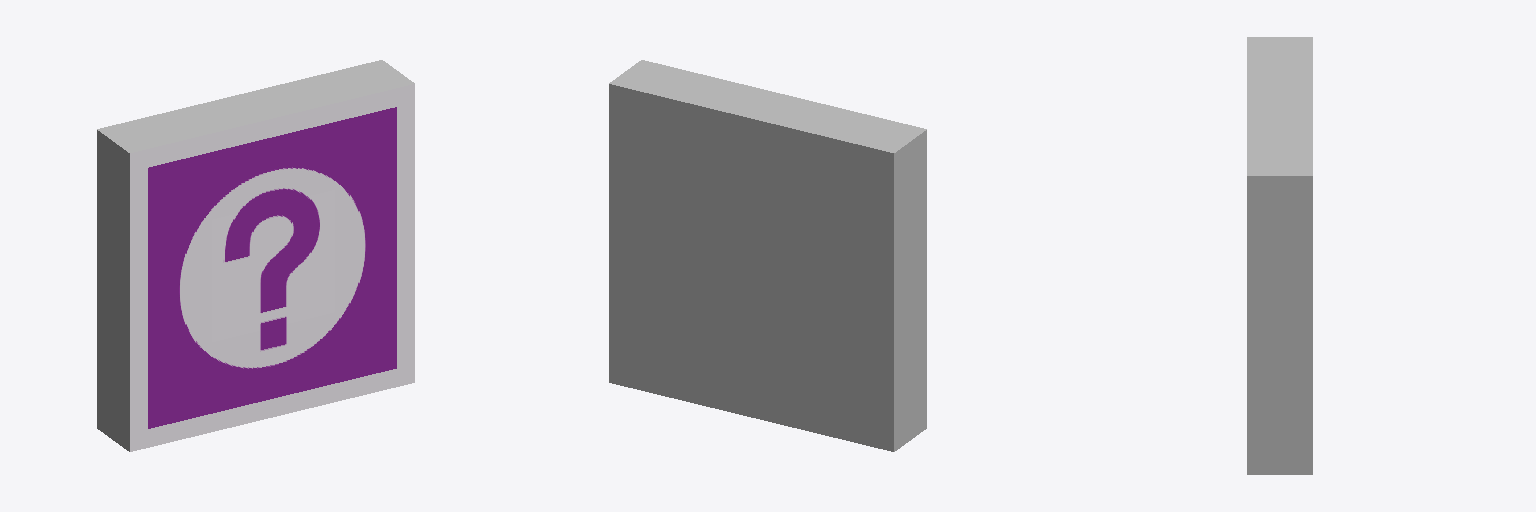
The picture shows the model from 3 angles: view 1: azimuth 30°, elevation 25°; view 2: azimuth 150°, elevation 25°; view 3: azimuth 270°, elevation 25°; orthographic projection.
Visible parts, largest first — view 1: Cube; view 2: Cube; view 3: Cube.
Boxes of the visible parts, <box> form: Cube: <box>97,60,414,451</box>; Cube: <box>609,60,926,451</box>; Cube: <box>1247,37,1312,474</box>.
Size of the model in its own units: 0.5 by 0.5 by 0.1.
Materials: 2 (1 with a texture image).